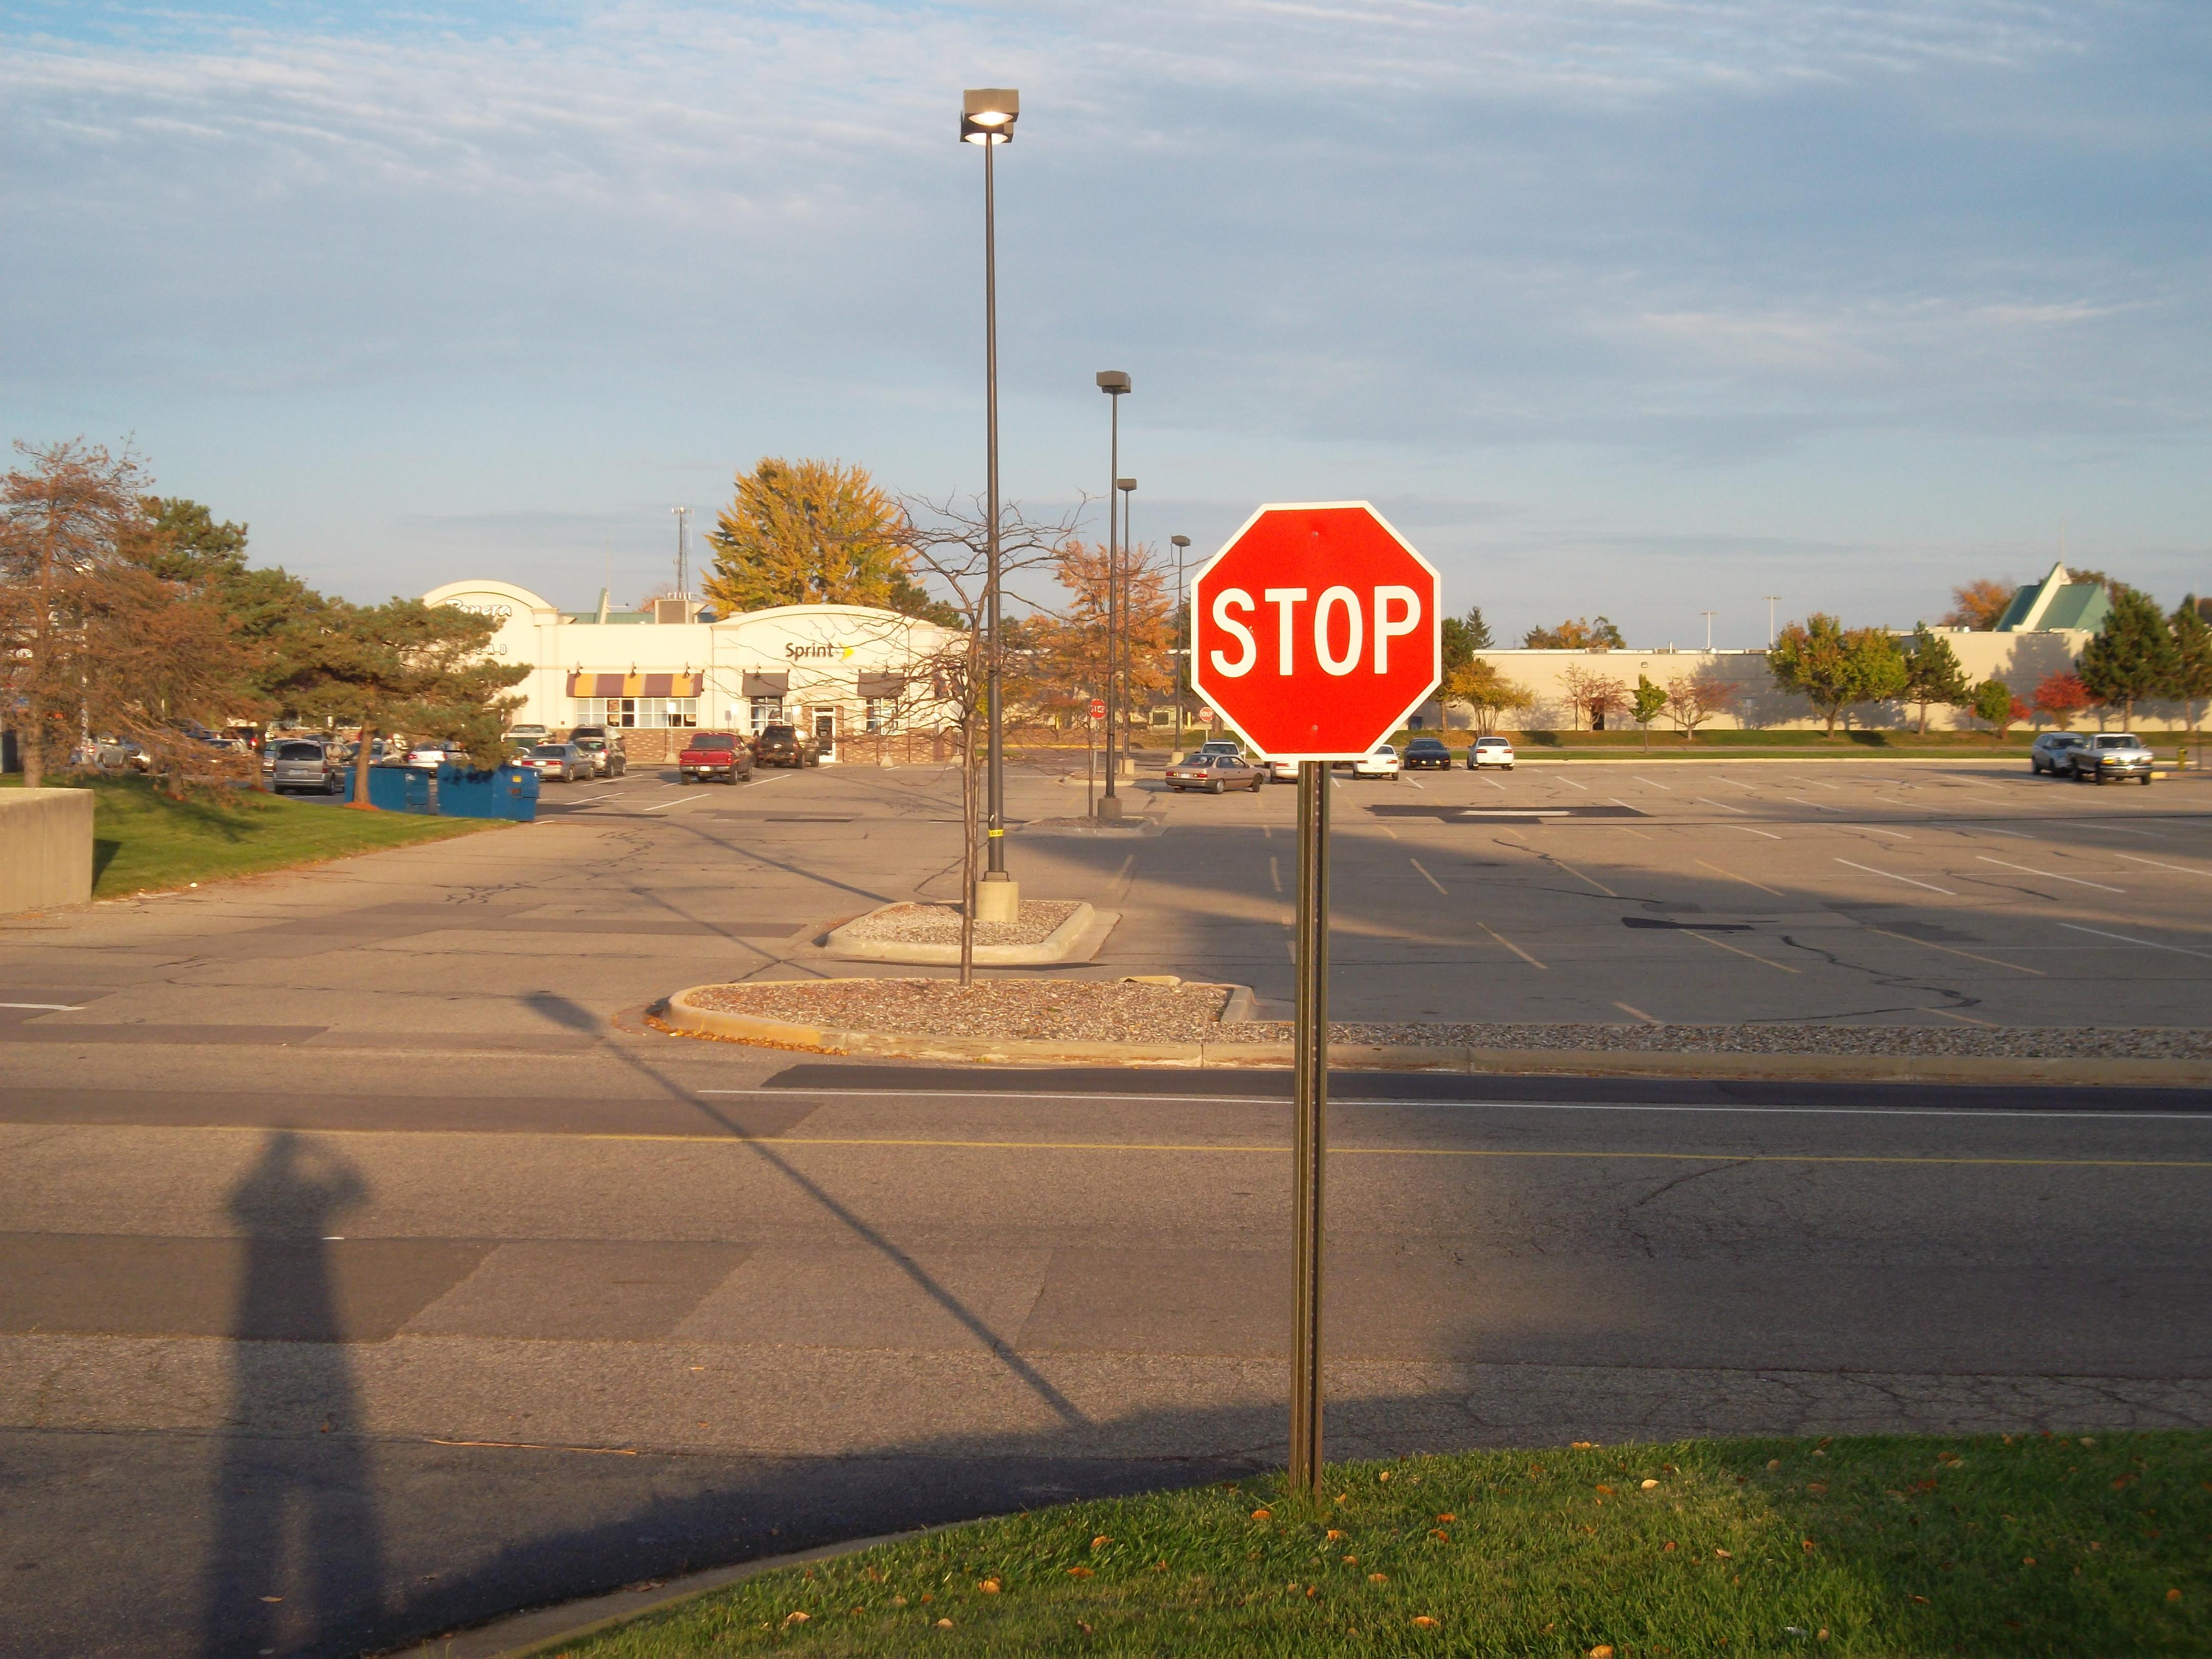stop: (1174, 497, 1460, 784)
